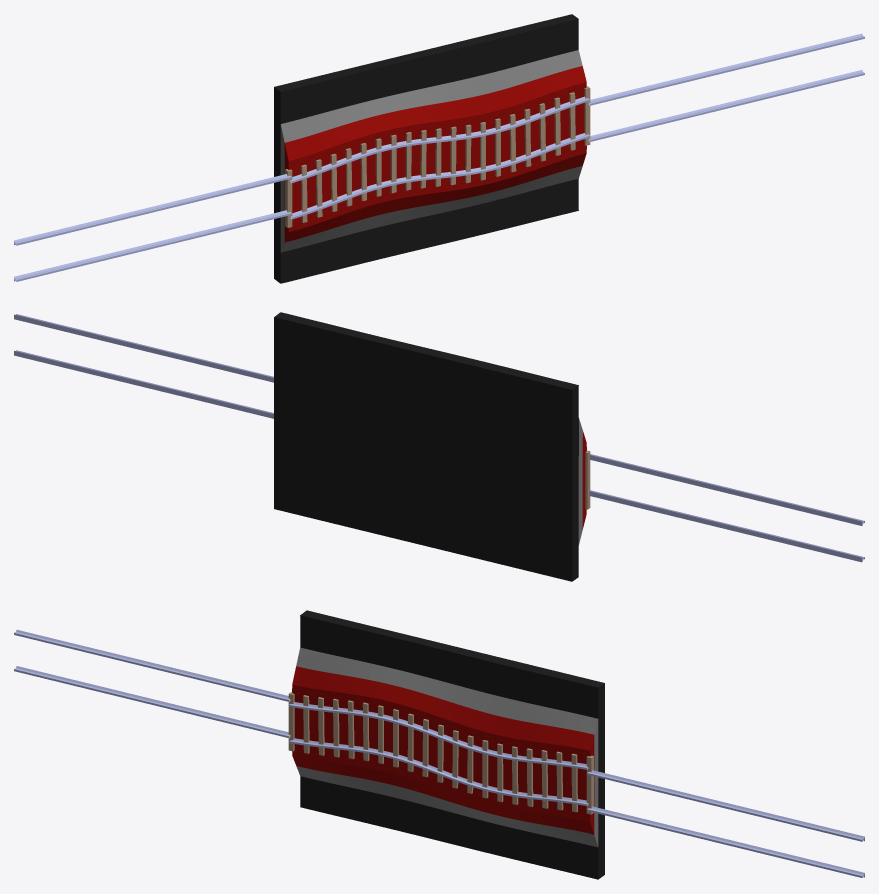
3 views of the same model, one above another, from view 1: azimuth 30°, elevation 25°; view 2: azimuth 150°, elevation 25°; view 3: azimuth 330°, elevation 25° (orthographic).
Size of the model in its own units: 37 by 8.02 by 1.34.
